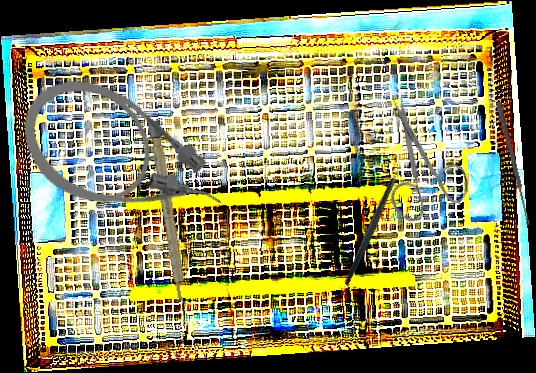Cannula: (1, 56, 242, 265)
Chopper: (306, 153, 438, 288)
Iris Scissors: (343, 94, 491, 240)
Scalpel Handle: (147, 120, 189, 304)
Surgical Spoon: (495, 101, 532, 227)
